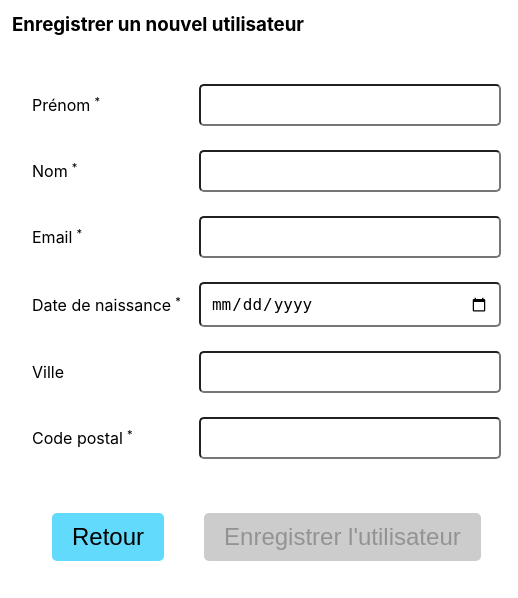
Scenario: should show an error when lastname is not valid
The width and height of the screenshot is (518, 598).
Type "<Doe>" into the field with test id "lastname-input" at [350, 171], box [199,150,501,192]
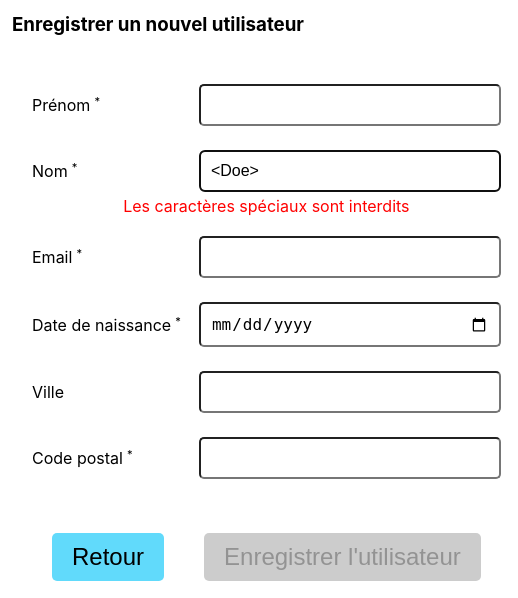
Result: the text with test id "lastname-error-text" reads "Les caractères spéciaux sont interdits" at [123,196,410,216]
